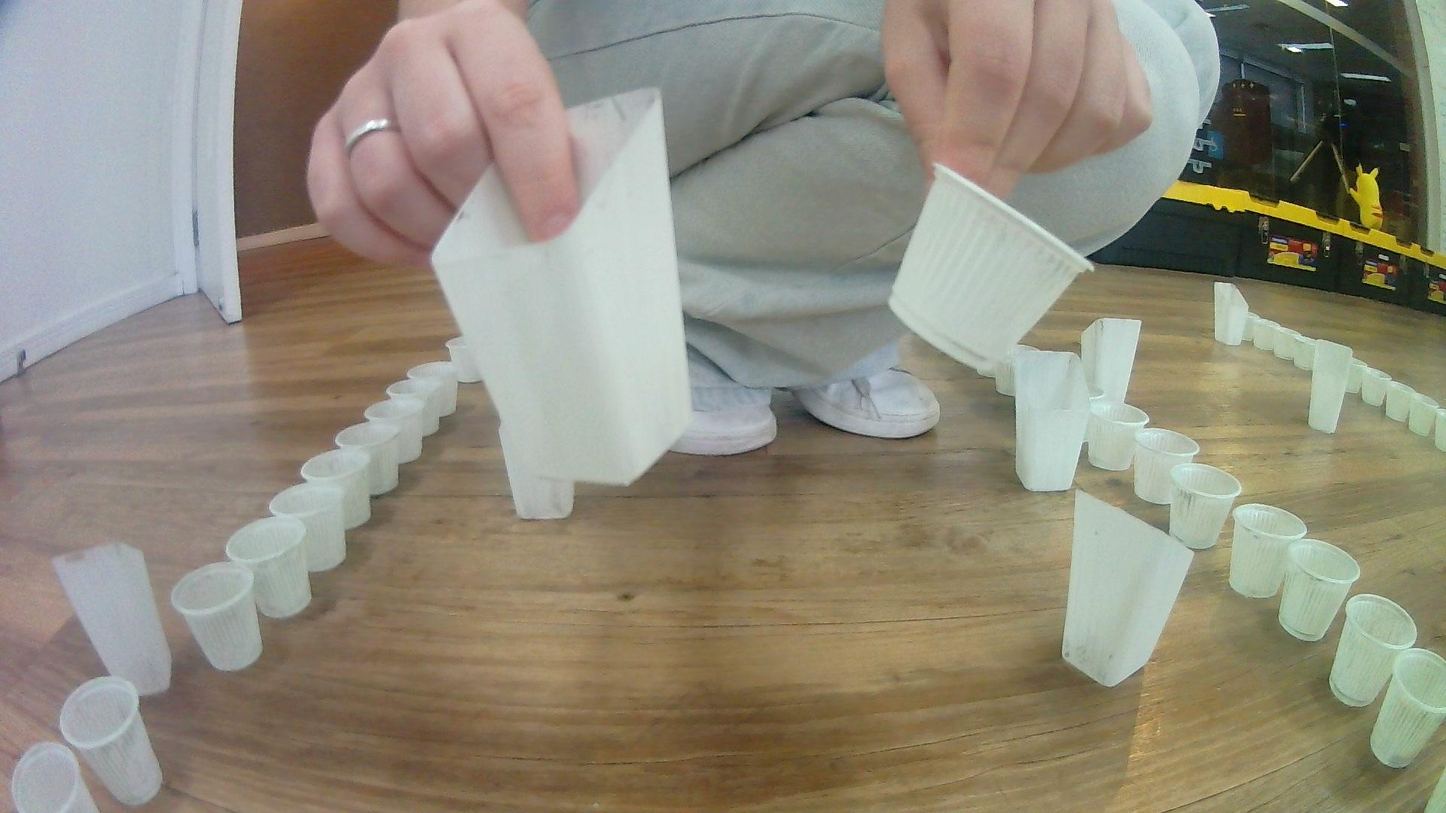erva_daninha: (432, 88, 694, 487), (1060, 487, 1194, 688), (50, 539, 173, 697), (1012, 349, 1088, 493), (493, 418, 576, 522), (1081, 316, 1142, 406), (1307, 339, 1355, 434), (1214, 281, 1249, 346)
planta: (888, 160, 1096, 376), (59, 675, 163, 806), (1328, 592, 1418, 708), (170, 562, 264, 672), (1368, 646, 1446, 768), (224, 516, 313, 619), (1277, 537, 1362, 642), (1228, 503, 1310, 598), (267, 484, 346, 573), (1168, 462, 1243, 550), (9, 741, 100, 813), (300, 448, 372, 530), (1132, 427, 1200, 506), (334, 422, 400, 496), (1085, 402, 1149, 472), (364, 399, 423, 464), (385, 379, 441, 435), (407, 361, 459, 416), (444, 336, 484, 383), (993, 347, 1020, 396), (1407, 393, 1438, 435), (1243, 310, 1274, 351), (1384, 381, 1414, 422), (1361, 368, 1392, 406), (1271, 326, 1299, 361), (1292, 334, 1316, 371), (1076, 379, 1104, 410), (1344, 358, 1368, 394), (1434, 409, 1446, 452)
